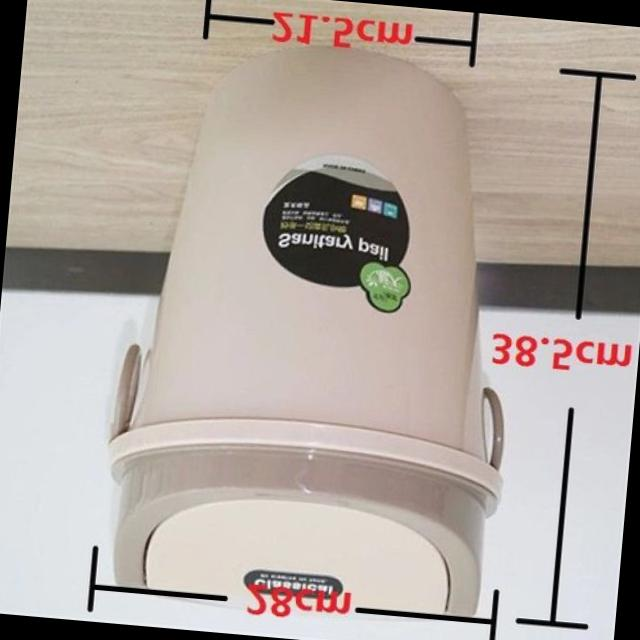dustbin: (90, 23, 549, 632)
